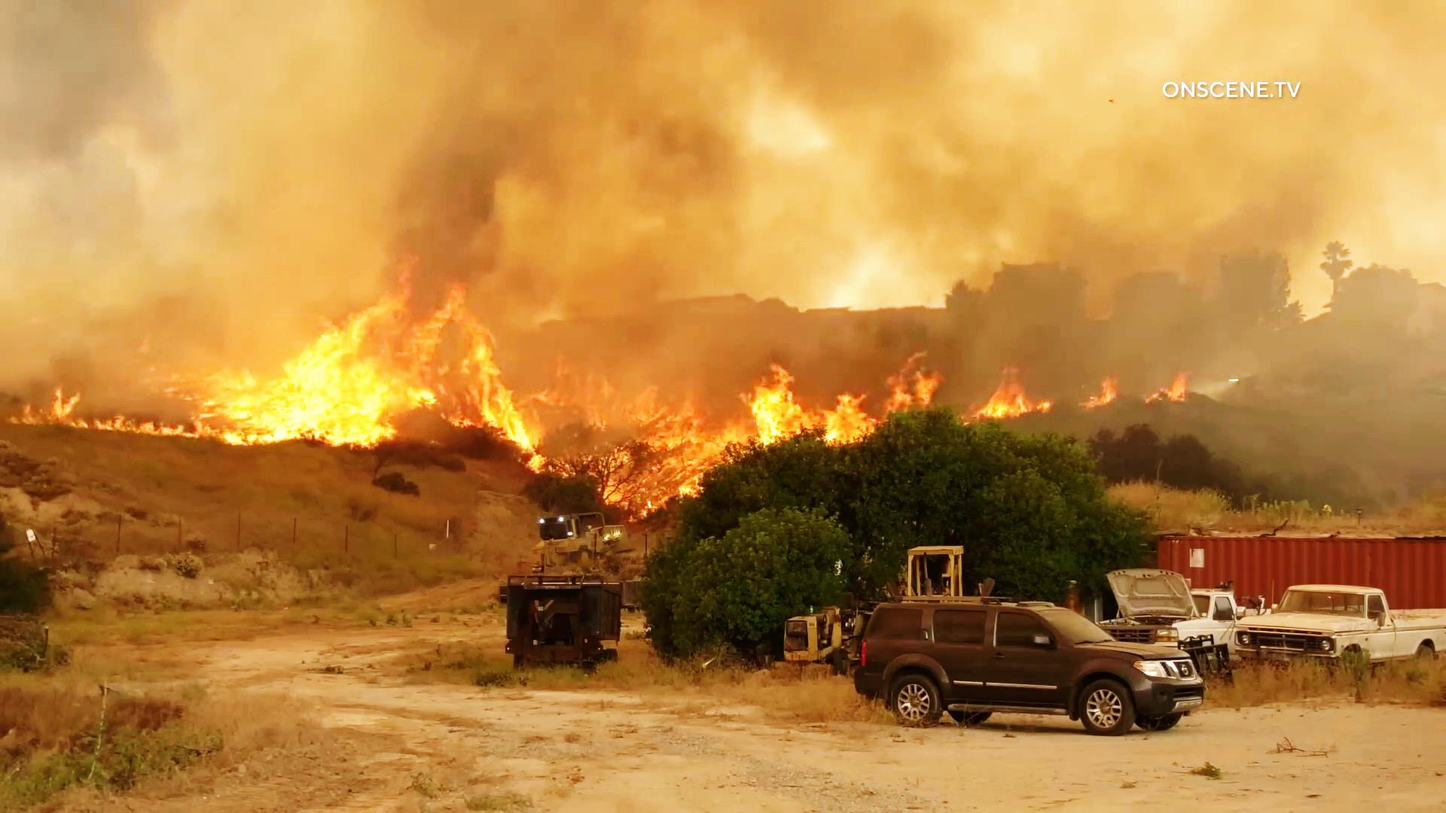fire: (182, 273, 454, 440), (624, 386, 725, 506), (445, 318, 529, 446), (725, 354, 818, 440), (814, 369, 880, 446)
smoke: (998, 185, 1234, 335), (403, 70, 495, 273)
